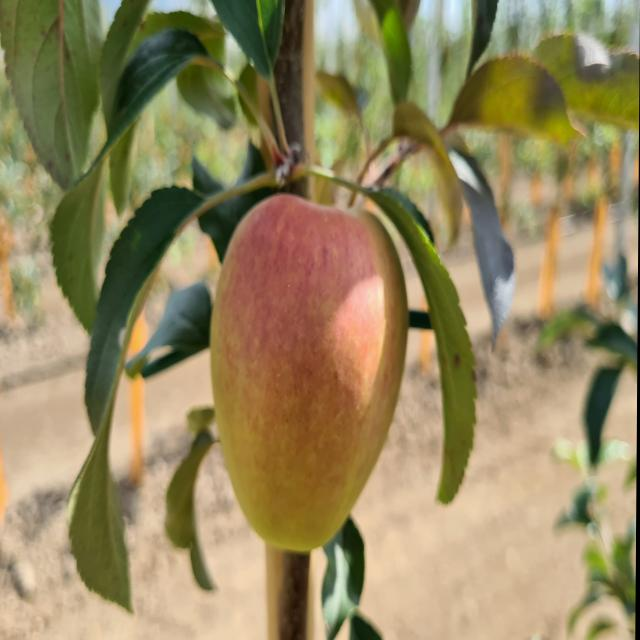Apple: (211, 194, 408, 552)
